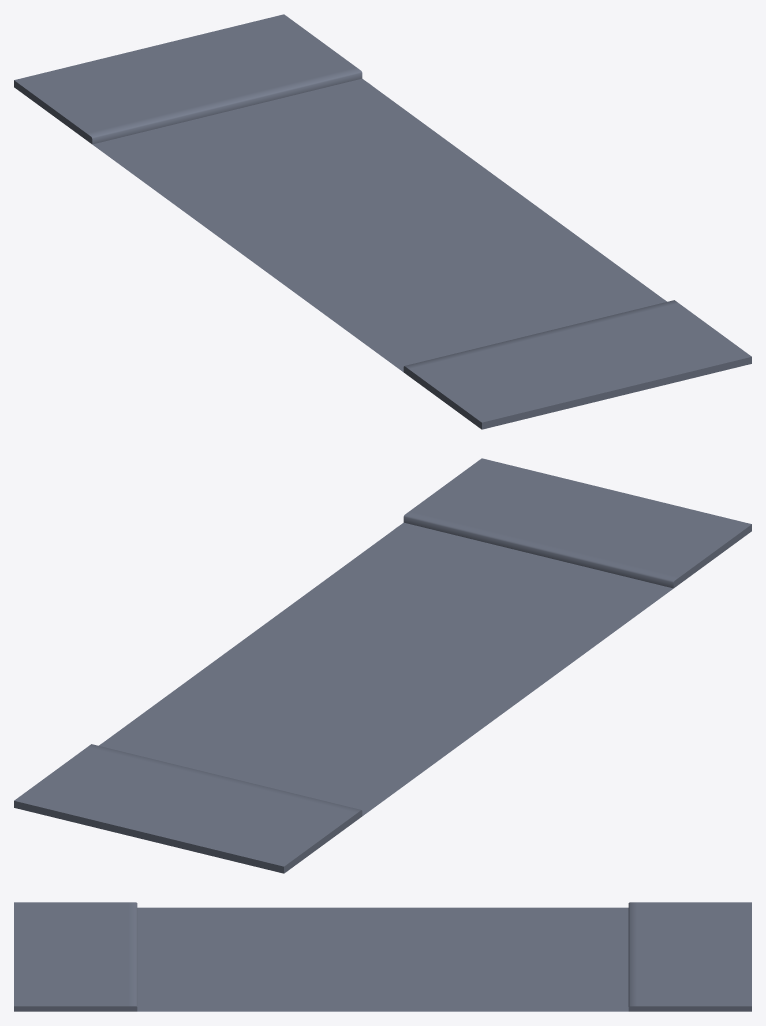
File: env_block_street_4_lane.glb
3 renders of one model, top to bottom at view 1: azimuth 30°, elevation 25°; view 2: azimuth 150°, elevation 25°; view 3: azimuth 270°, elevation 25°, orthographic. The views are drawn at different scales.
Visible parts, largest first — view 1: Street_4Lane.gltf; view 2: Street_4Lane.gltf; view 3: Street_4Lane.gltf.
Part boxes in pixels (x1,y1,x2,y2): Street_4Lane.gltf: (14,14,751,429); Street_4Lane.gltf: (14,458,751,873); Street_4Lane.gltf: (14,902,751,1011).
Size of the model in its own units: 6 by 0.15 by 18.
